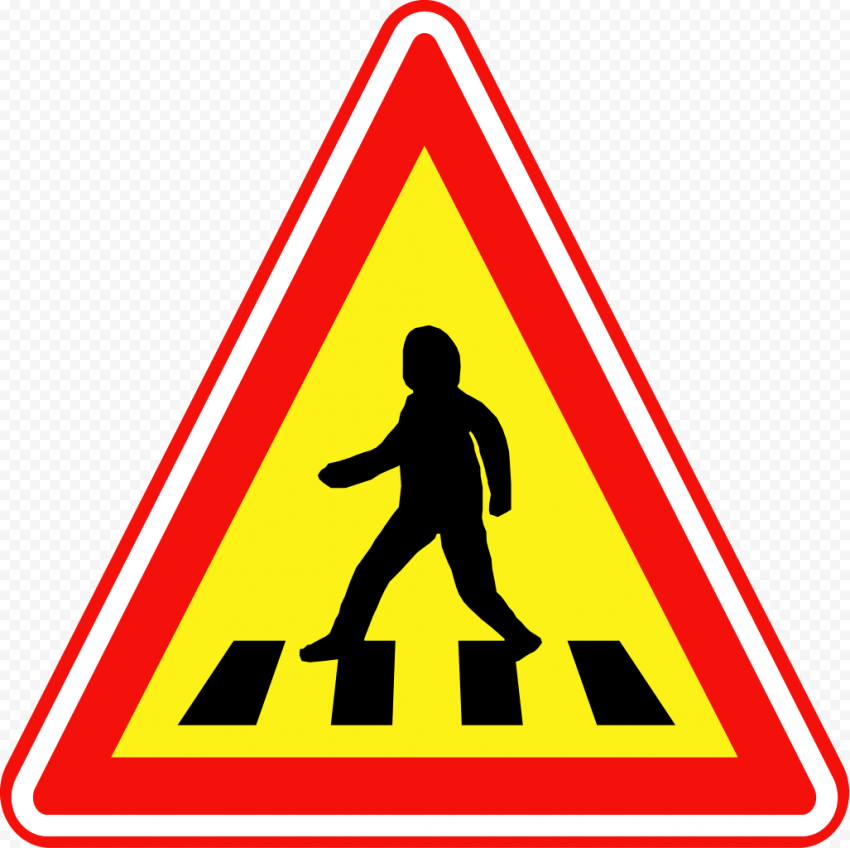pedestrian: (108, 150, 750, 787)
